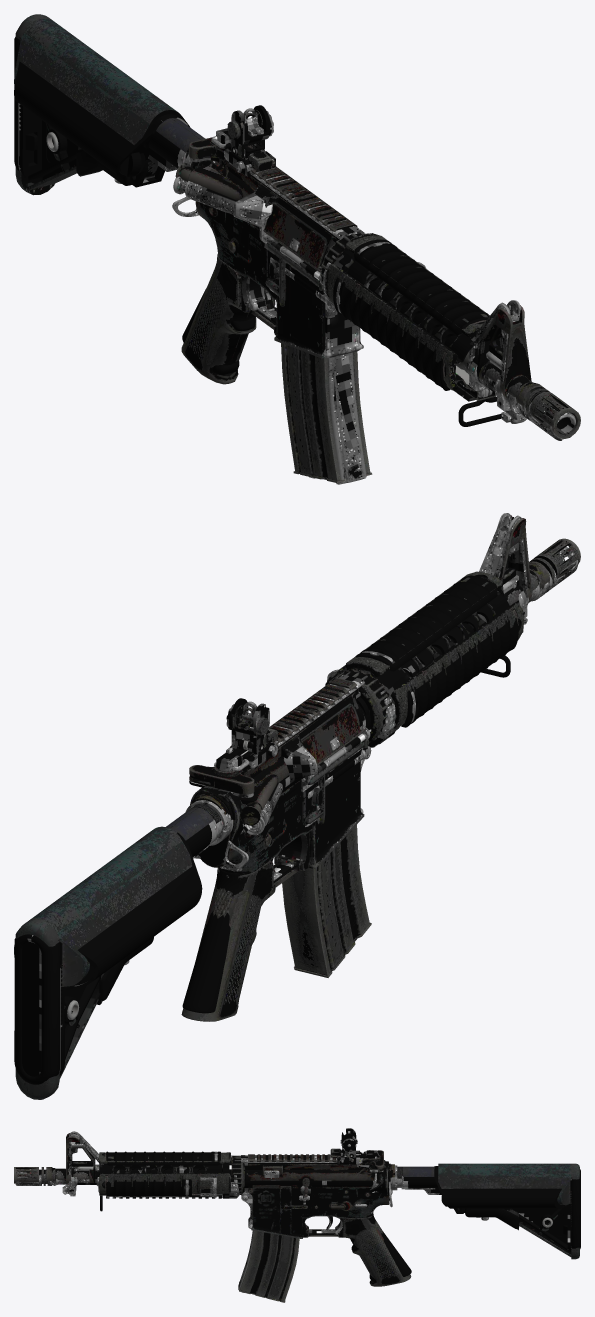
3 views of the same model, one above another, from view 1: azimuth 30°, elevation 25°; view 2: azimuth 150°, elevation 25°; view 3: azimuth 270°, elevation 25° (orthographic). The views are drawn at different scales.
Parts seen in each view (by area): view 1: weapons\models\m4a4\weapon_rif_m4a4.vmdl_c.body_legacy, weapons\models\m4a4\weapon_rif_m4a4.vmdl_c.body_hd; view 2: weapons\models\m4a4\weapon_rif_m4a4.vmdl_c.body_legacy, weapons\models\m4a4\weapon_rif_m4a4.vmdl_c.body_hd; view 3: weapons\models\m4a4\weapon_rif_m4a4.vmdl_c.body_legacy, weapons\models\m4a4\weapon_rif_m4a4.vmdl_c.body_hd.
Boxes of the visible parts, x1,y1,x2,y2 form: weapons\models\m4a4\weapon_rif_m4a4.vmdl_c.body_legacy: (14, 14, 580, 482); weapons\models\m4a4\weapon_rif_m4a4.vmdl_c.body_hd: (14, 37, 575, 484); weapons\models\m4a4\weapon_rif_m4a4.vmdl_c.body_legacy: (14, 515, 580, 1099); weapons\models\m4a4\weapon_rif_m4a4.vmdl_c.body_hd: (14, 513, 578, 1084); weapons\models\m4a4\weapon_rif_m4a4.vmdl_c.body_legacy: (14, 1133, 579, 1302); weapons\models\m4a4\weapon_rif_m4a4.vmdl_c.body_hd: (15, 1128, 580, 1292).
Size of the model in its own units: 0.0913 by 0.2922 by 0.8988.
2 materials, 2 textured.
